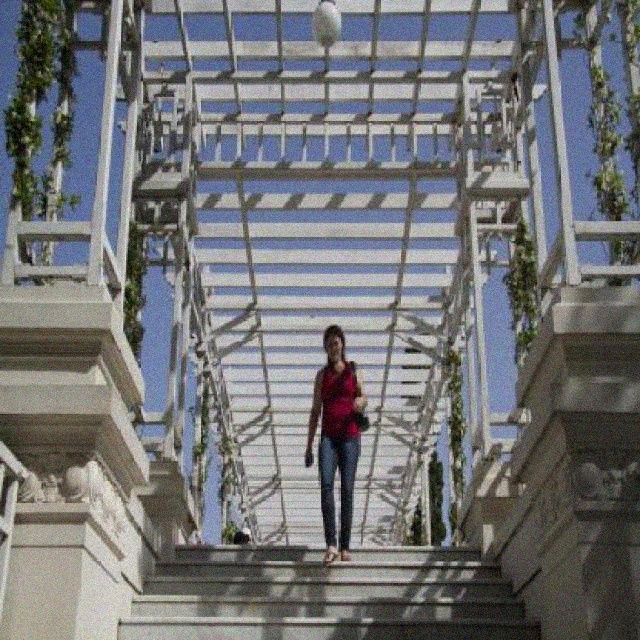stair: (117, 540, 545, 640)
